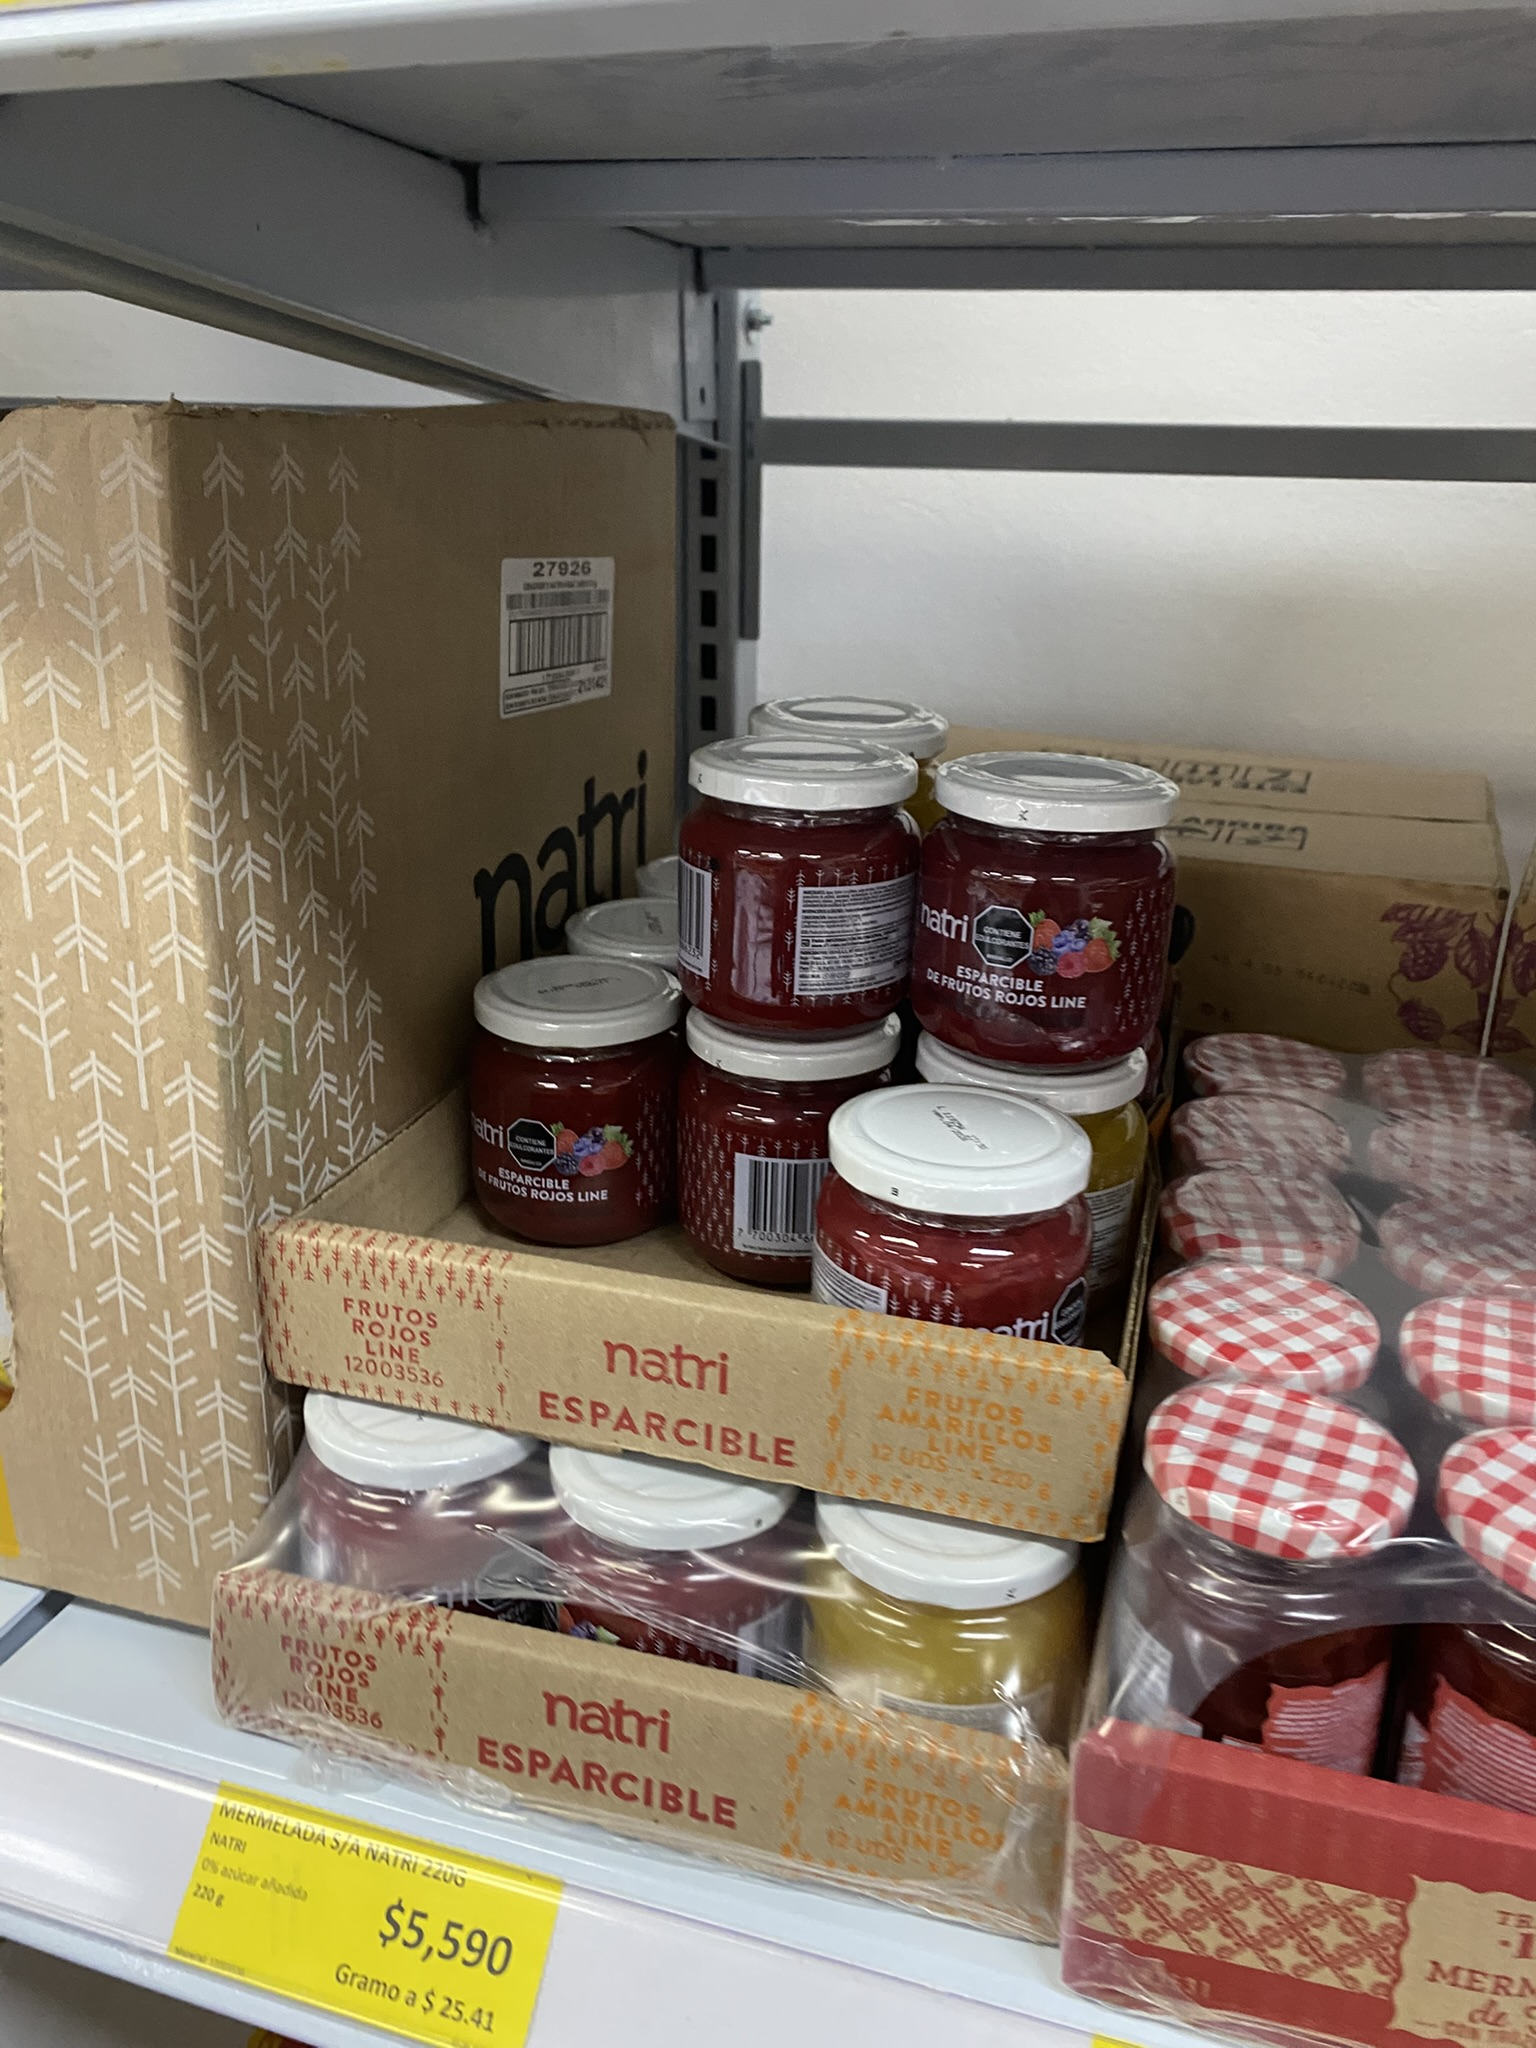Mermelada: (925, 745, 1189, 1051), (673, 729, 916, 1021), (808, 1087, 1086, 1330), (463, 948, 681, 1221), (673, 1026, 899, 1285)
